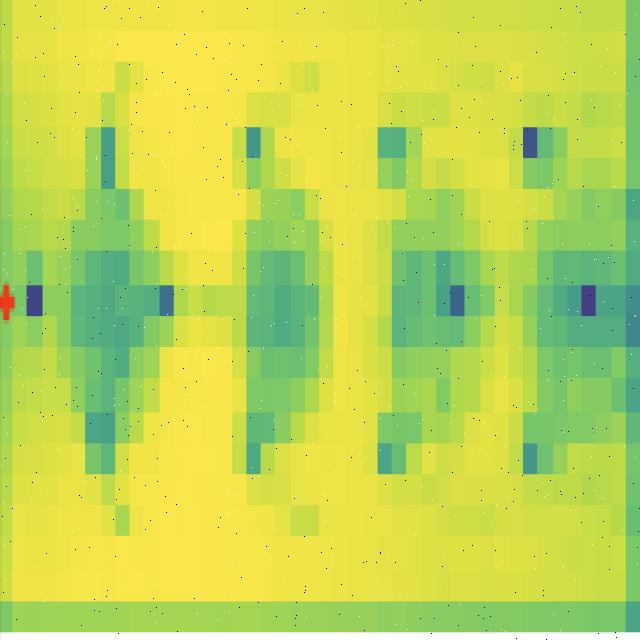Concrete: (530, 188, 629, 440)
Glass: (385, 194, 487, 438)
Metal: (57, 193, 156, 421)
Wood: (235, 200, 328, 443)
